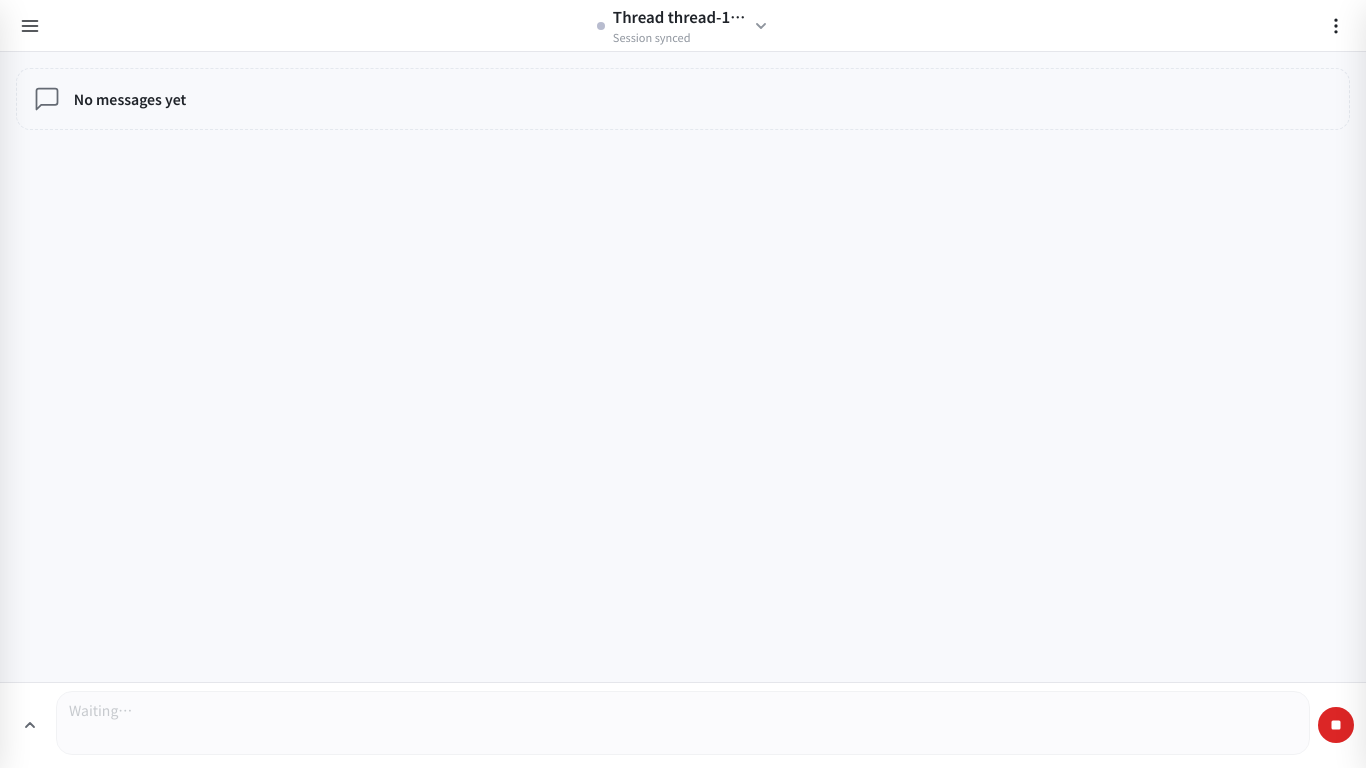
it: ChatPageLayout workspace actions › still opens the workspace sidebar when switching is blocked so the user can inspect workspace context
The image size is (1366, 768).
Click the button named "Toggle workspace sidebar" at (30, 26), box [12,8,48,44]
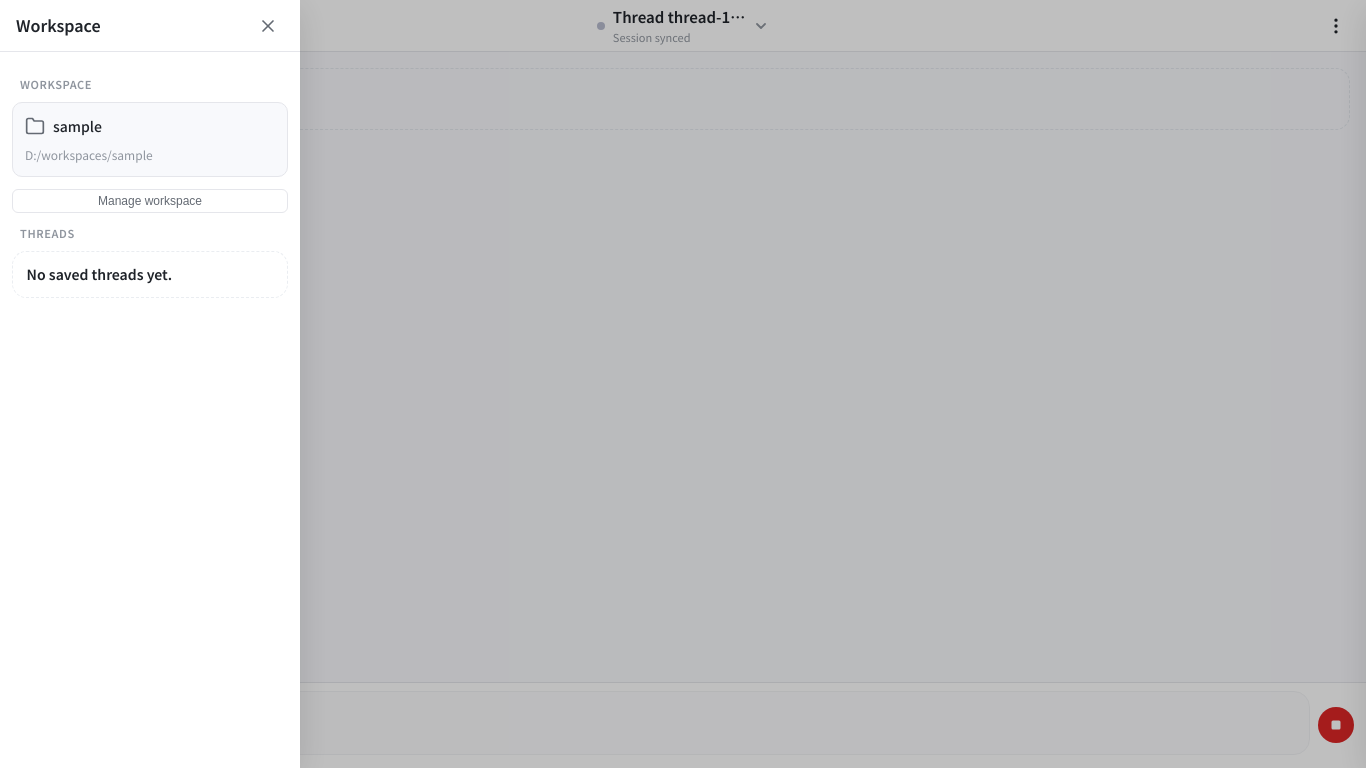
Now the element with class "open" is shown, box [0,0,300,767]
